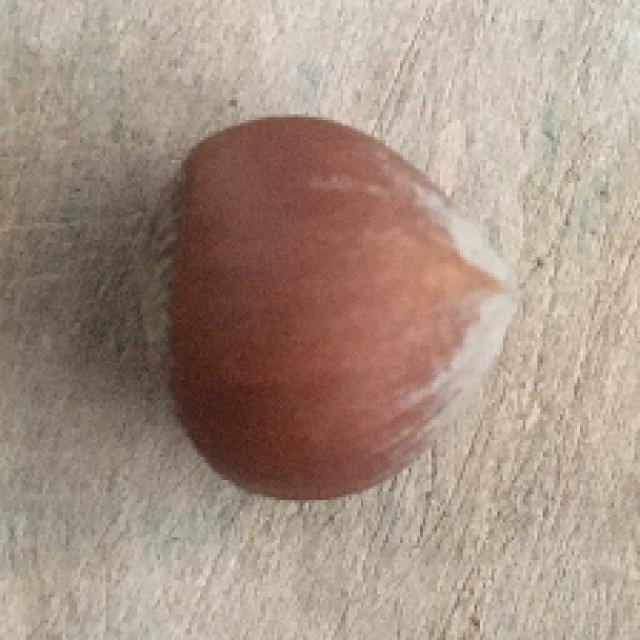QualityHazelnut: (133, 113, 526, 508)
